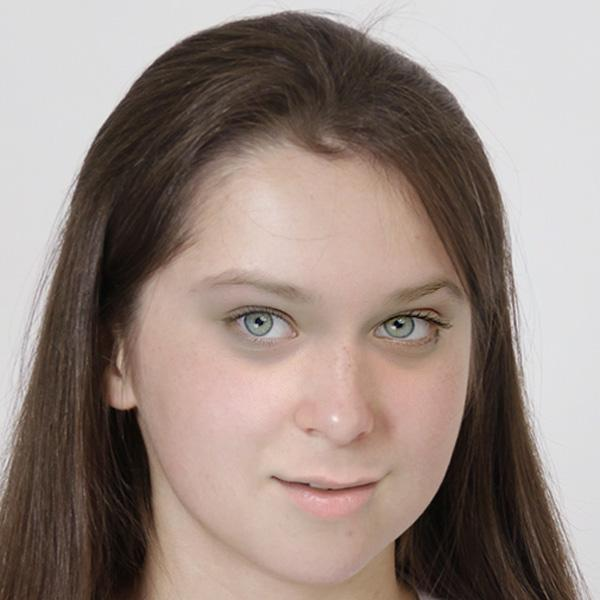Eyes: (215, 291, 304, 355), (367, 304, 451, 361)
